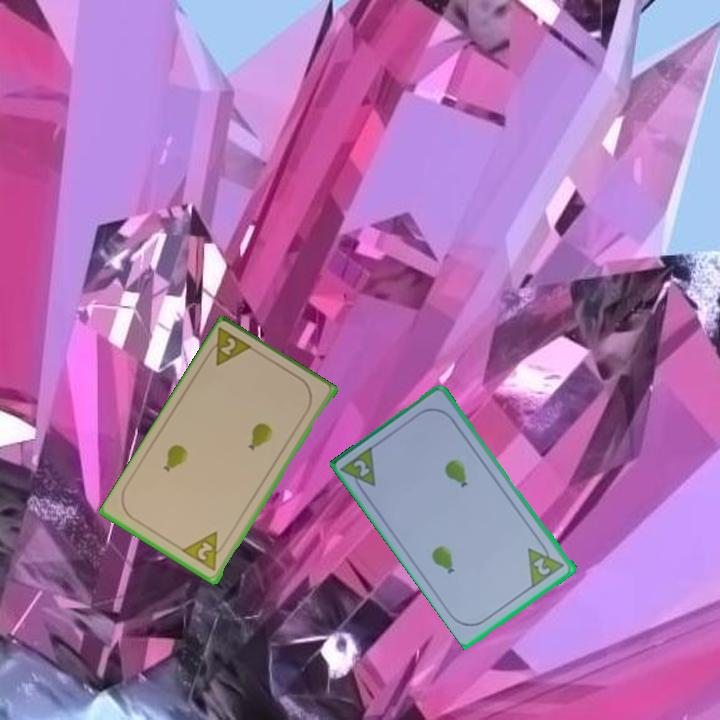2p: (201, 325, 257, 370), (180, 528, 230, 574), (530, 554, 554, 578), (350, 456, 374, 480)
